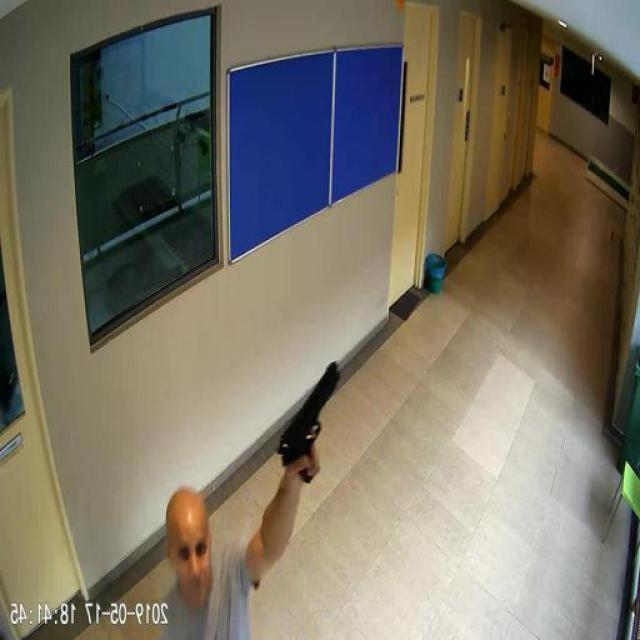weapon: (274, 360, 343, 484)
